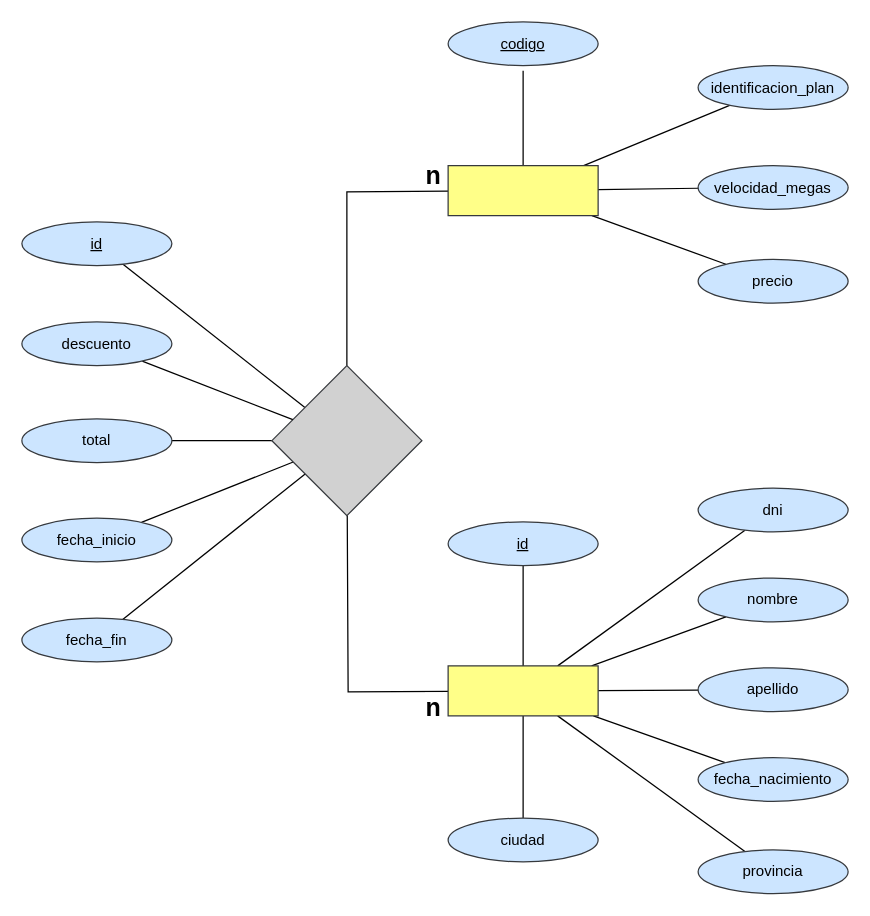
The diagram is 870 pixels wide and 916 high, and some of its shapes have lost their labels. The shapes that lost their labels are listed below. From the top down, each one's box as (x1, y1, x2, y2) in pixels, then its label:
(447, 164, 598, 216): planes
(271, 364, 422, 516): consumido
(447, 665, 598, 716): clientes
